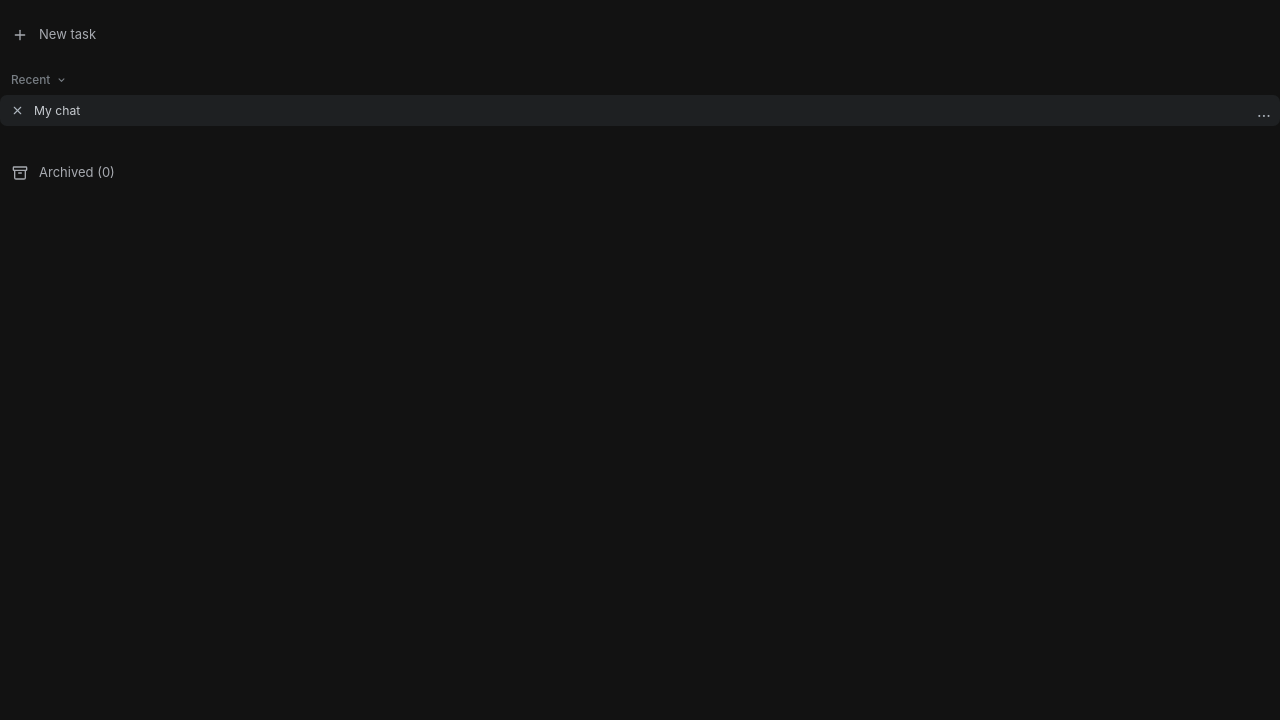
it: pins from the context menu without changing messages and keeps deletion confirmation
Press F10 in the button "My chat", box x1=0 y1=95 x2=1279 y2=126
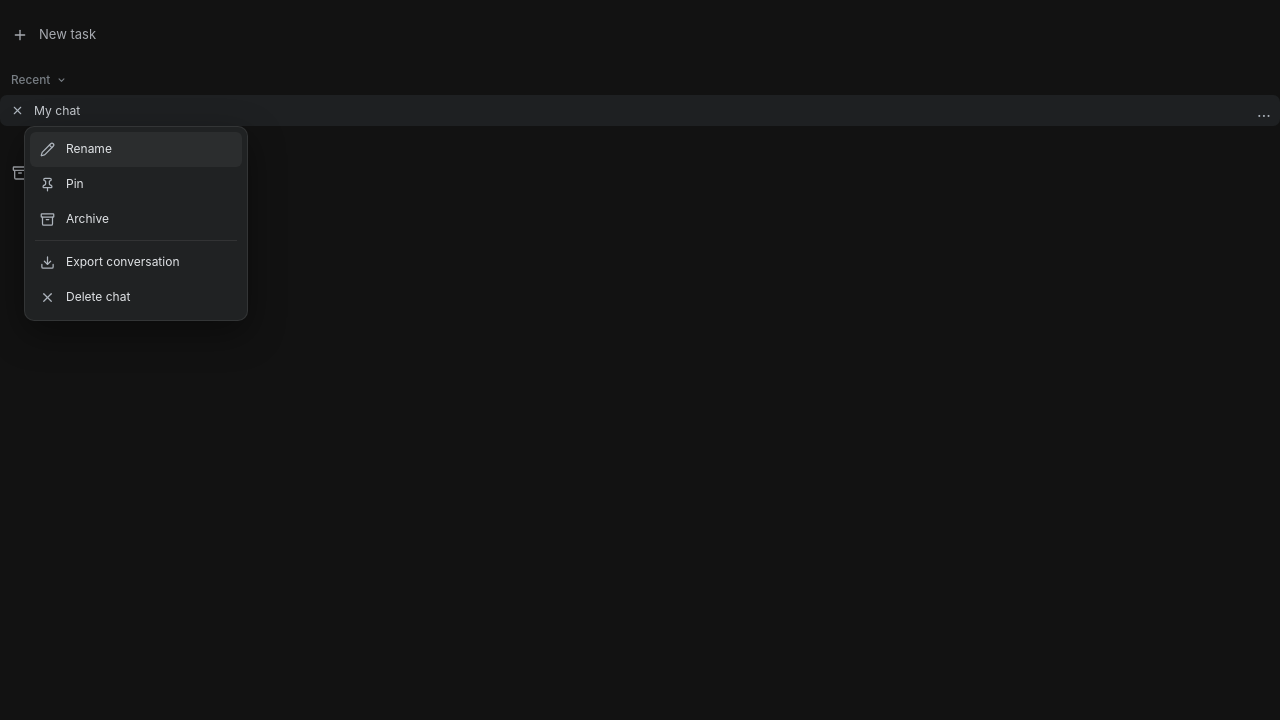
Click the menu item "Pin" at (136, 184), box x1=30 y1=167 x2=242 y2=202
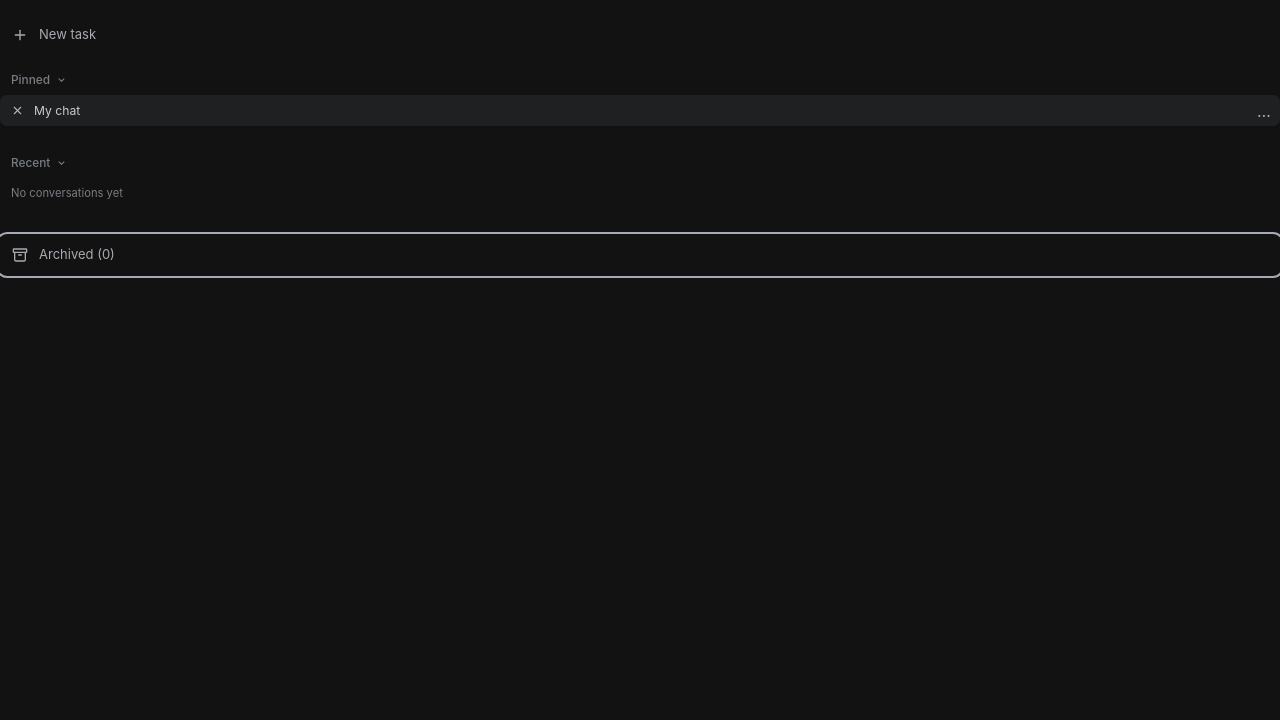
Expected: the text "My chat" is shown, x1=34 y1=103 x2=80 y2=118
Right-click the button "My chat" at (57, 110), box x1=0 y1=95 x2=1279 y2=126
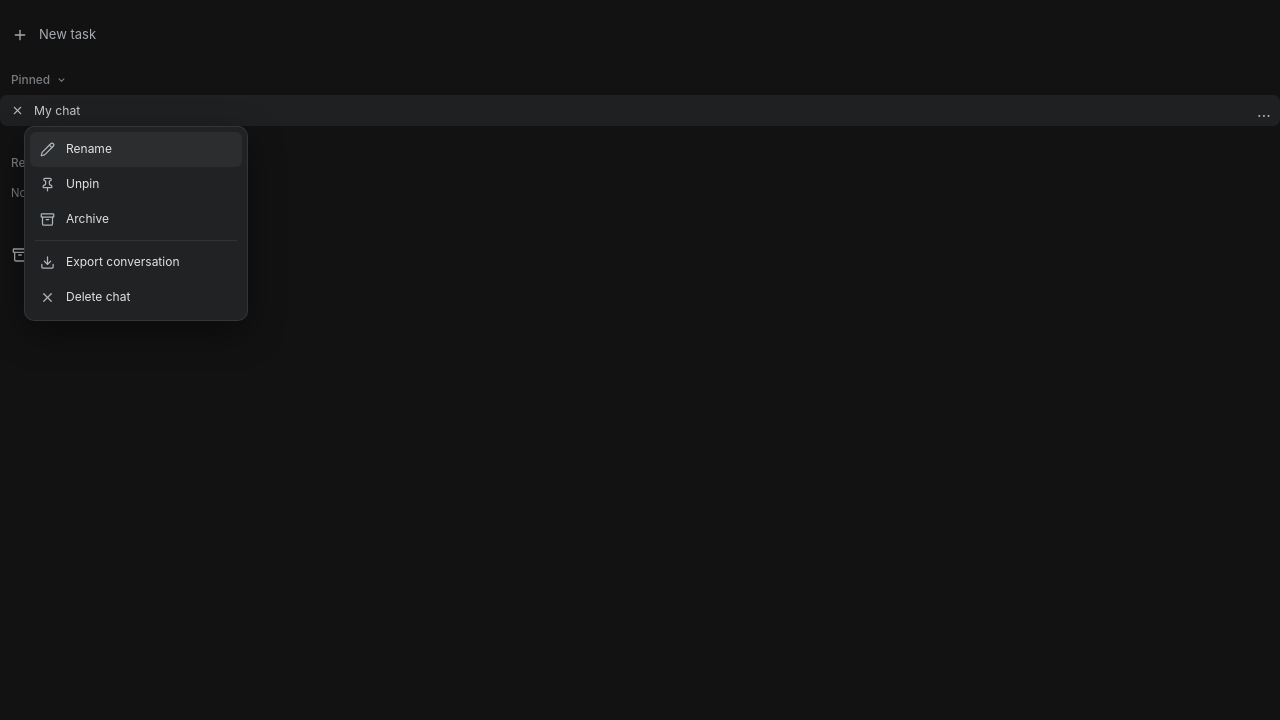
Now the menu item "Unpin" is shown, box x1=30 y1=167 x2=242 y2=202
Click the menu item "Delete chat" at (136, 298), box x1=30 y1=280 x2=242 y2=315
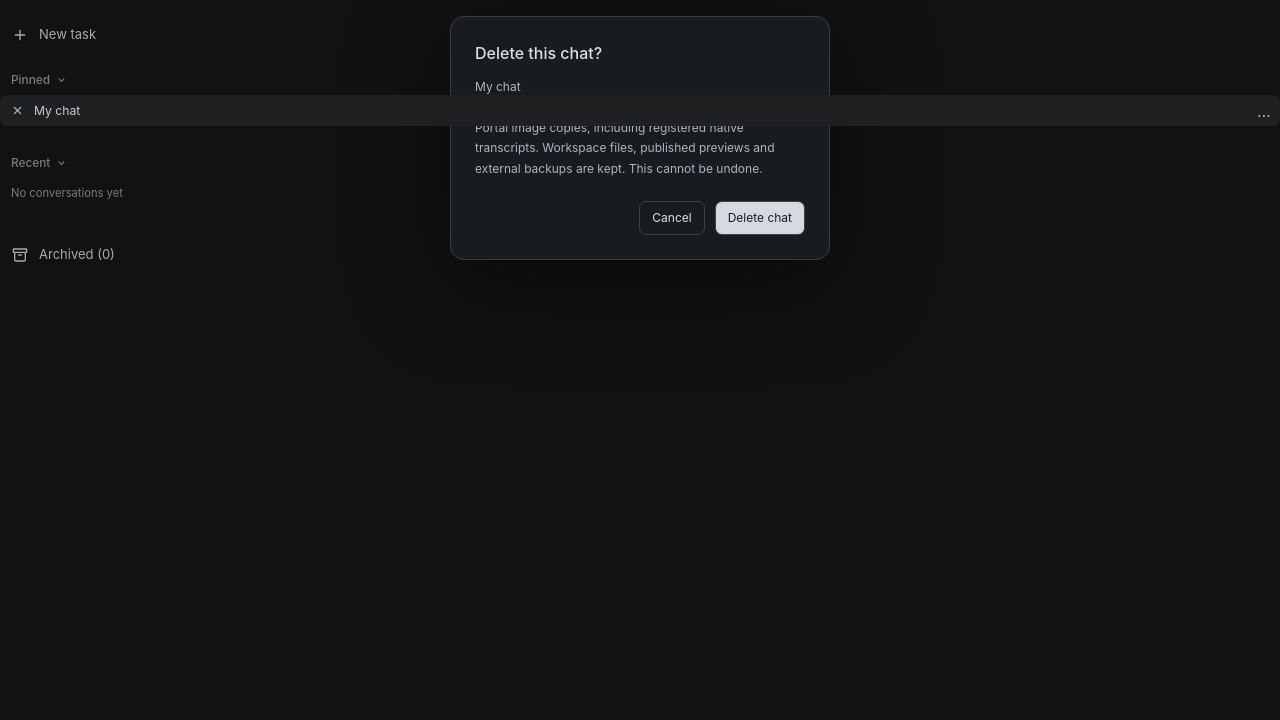
Now the dialog "Delete this chat?" is shown, box x1=450 y1=16 x2=830 y2=260
